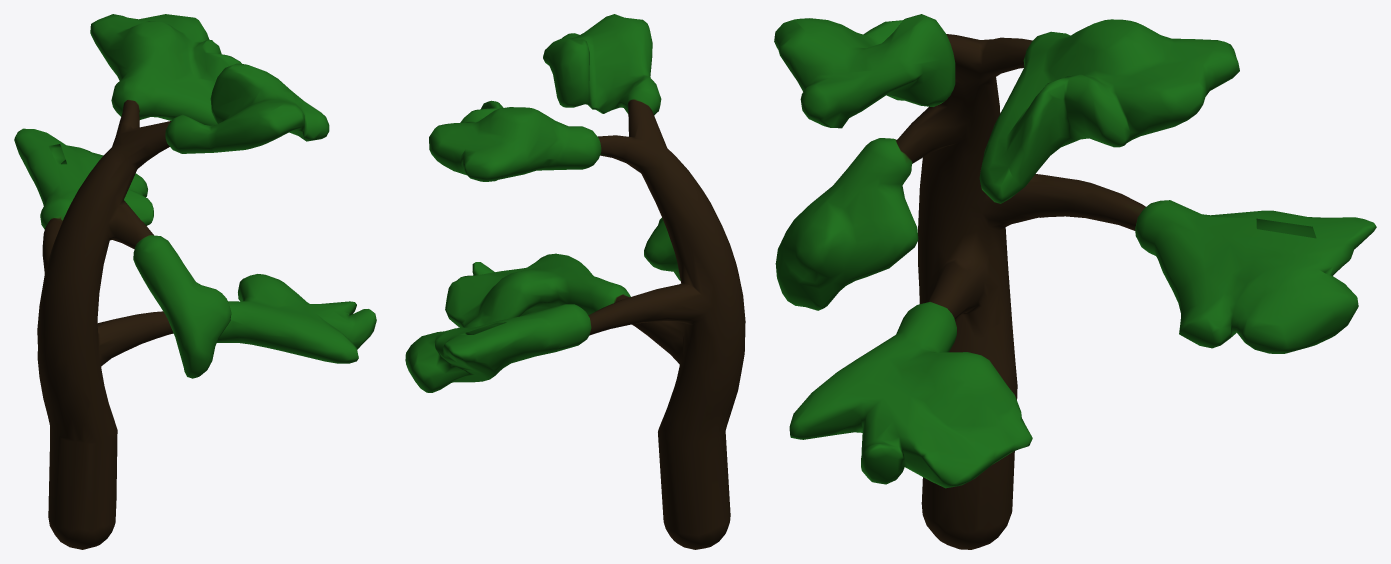
File: tsmms_tree.gltf
3 renders of one model, left to right at view 1: azimuth 30°, elevation 25°; view 2: azimuth 150°, elevation 25°; view 3: azimuth 270°, elevation 25°, orthographic. The views are drawn at different scales.
Visible parts, largest first — view 1: Tree; view 2: Tree; view 3: Tree.
Boxes of the visible parts, x1,y1,x2,y2 form: Tree: [14, 14, 376, 549]; Tree: [405, 14, 745, 549]; Tree: [774, 14, 1376, 549].
Size of the model in its own units: 2.67 by 3.87 by 3.42.
